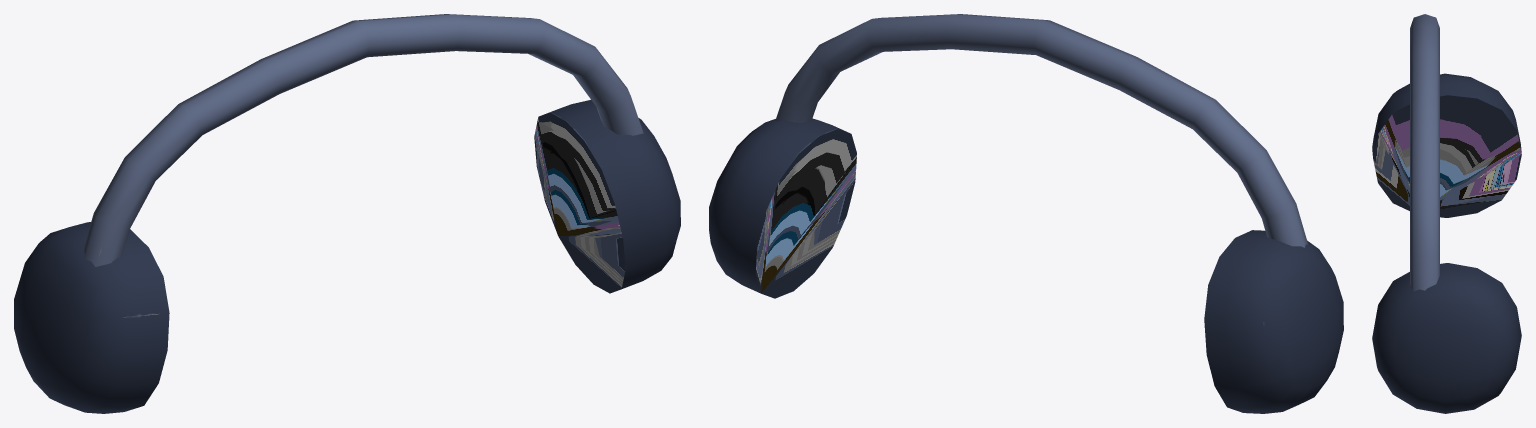
Rendered from earphones.fbx.
3 views of the same model, side by side, from view 1: azimuth 30°, elevation 25°; view 2: azimuth 150°, elevation 25°; view 3: azimuth 270°, elevation 25° (orthographic). The views are drawn at different scales.
Parts seen in each view (by area): view 1: polySurface5; view 2: polySurface5; view 3: polySurface5.
Boxes of the visible parts, x1,y1,x2,y2 form: polySurface5: [14, 14, 680, 413]; polySurface5: [709, 14, 1343, 413]; polySurface5: [1372, 14, 1521, 413].
Bounding box in the file's own units: 0.7392 × 0.3765 × 0.1947.
Materials: 1 (1 with a texture image).
